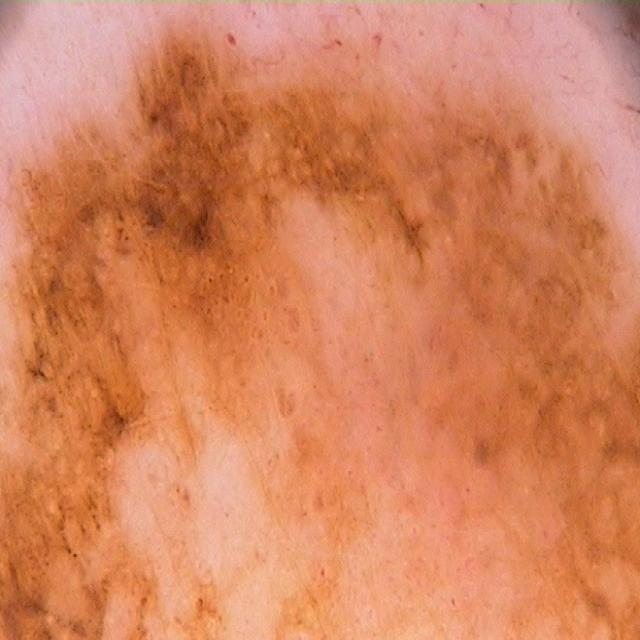Melanoma: (0, 25, 640, 640)
